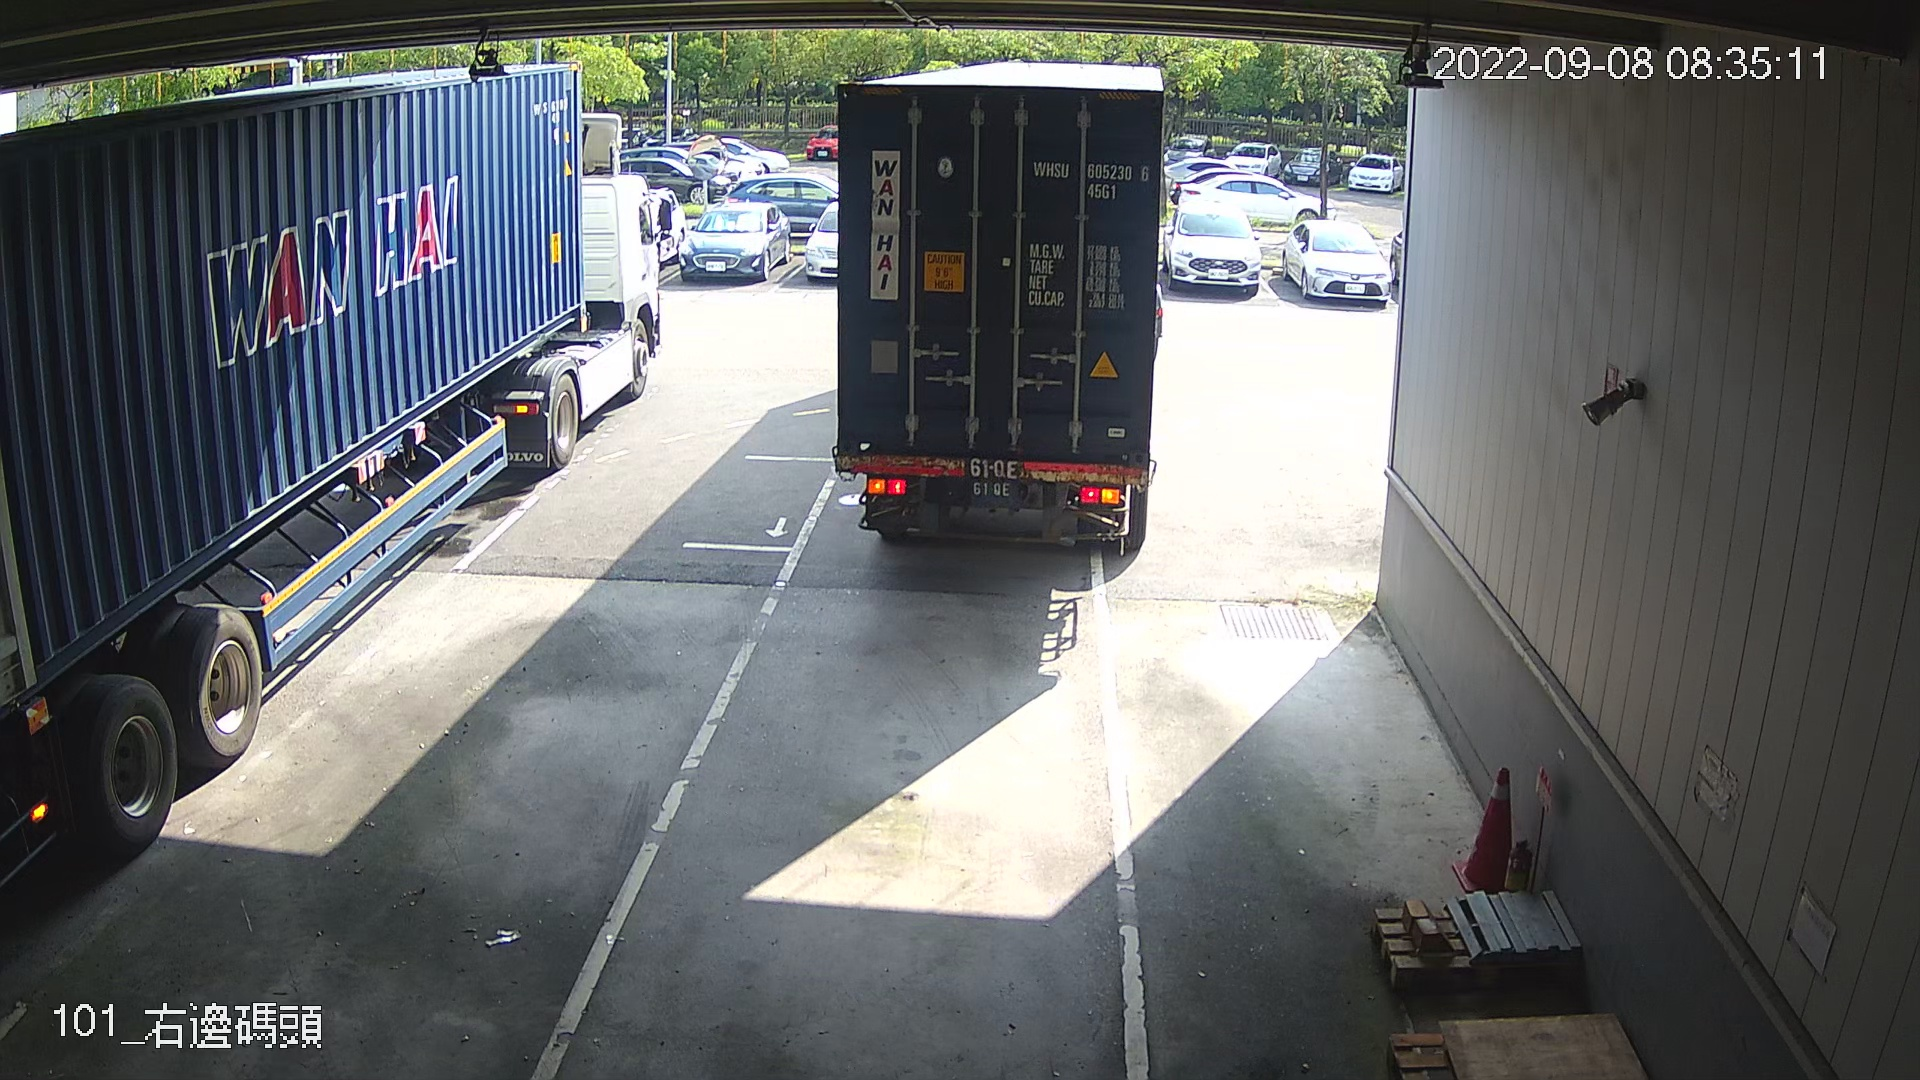container: (1021, 149, 1156, 207)
